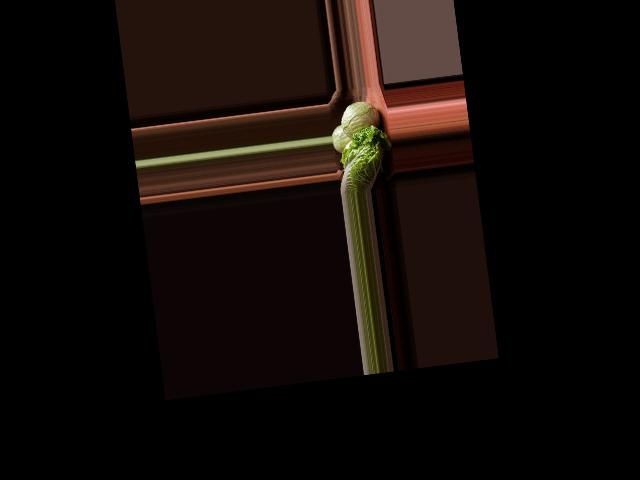lettuce: (334, 123, 397, 193)
